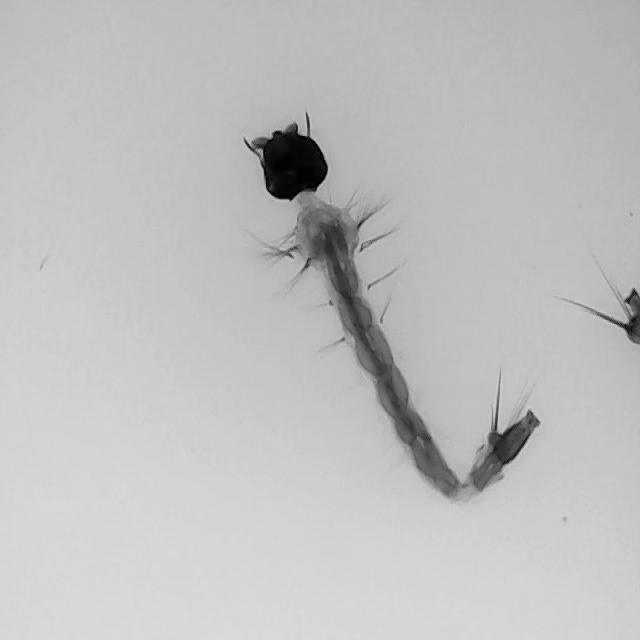larvas: (252, 122, 535, 493)
